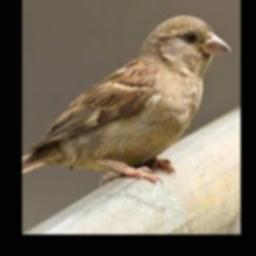Sparrow: (22, 14, 231, 185)
